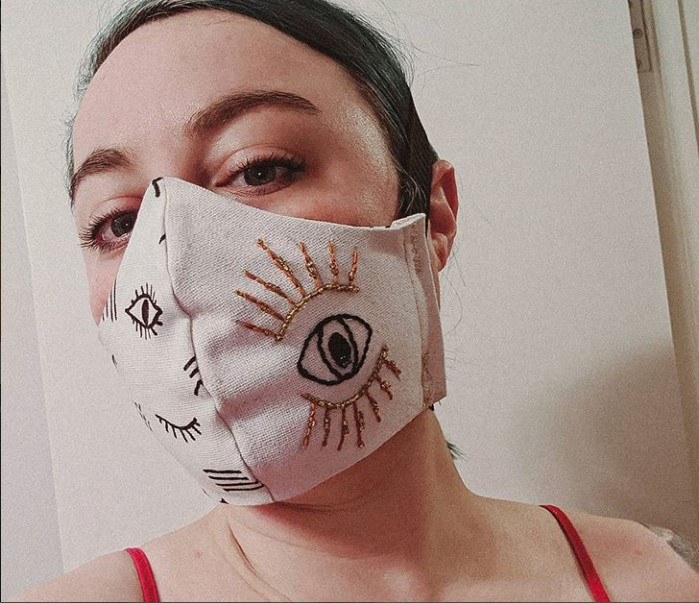face_with_mask: (61, 6, 463, 508)
